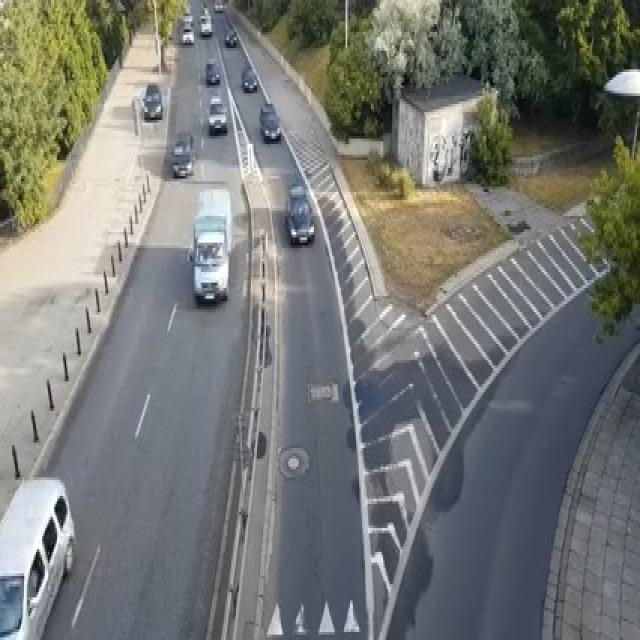bus: (186, 187, 232, 301)
car: (0, 475, 75, 637), (284, 184, 314, 245), (171, 128, 194, 176), (258, 102, 281, 142), (141, 83, 162, 120), (207, 96, 227, 133), (240, 64, 257, 91), (204, 56, 220, 83), (198, 10, 212, 34), (182, 21, 194, 43), (224, 27, 237, 45), (183, 10, 194, 27), (214, 0, 222, 11)
